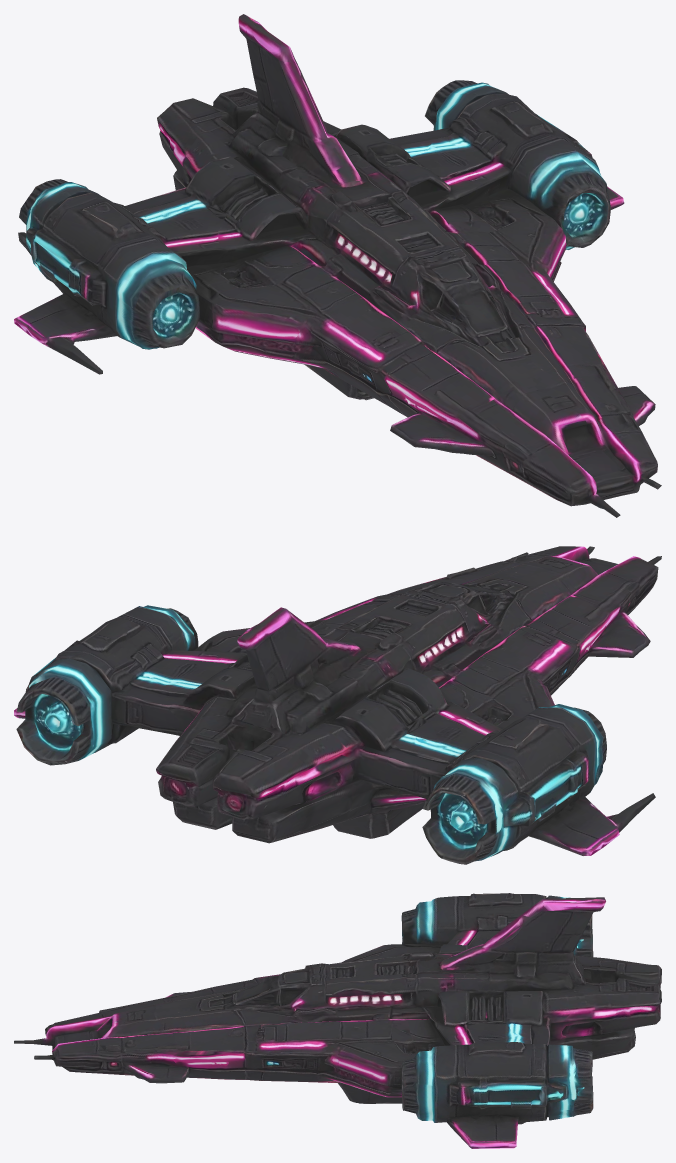
The model's file is prop-ship-b.glb.
3 renders of one model, top to bottom at view 1: azimuth 30°, elevation 25°; view 2: azimuth 150°, elevation 25°; view 3: azimuth 270°, elevation 25°, orthographic. The views are drawn at different scales.
Visible parts, largest first — view 1: body; view 2: body; view 3: body.
Boxes of the visible parts, box(x1,y1,x2,y2) form: body: box(14, 14, 661, 517); body: box(14, 546, 661, 864); body: box(14, 893, 661, 1148).
Size of the model in its own units: 0.7697 by 0.3229 by 0.998.
Materials: 1 (1 with a texture image).
